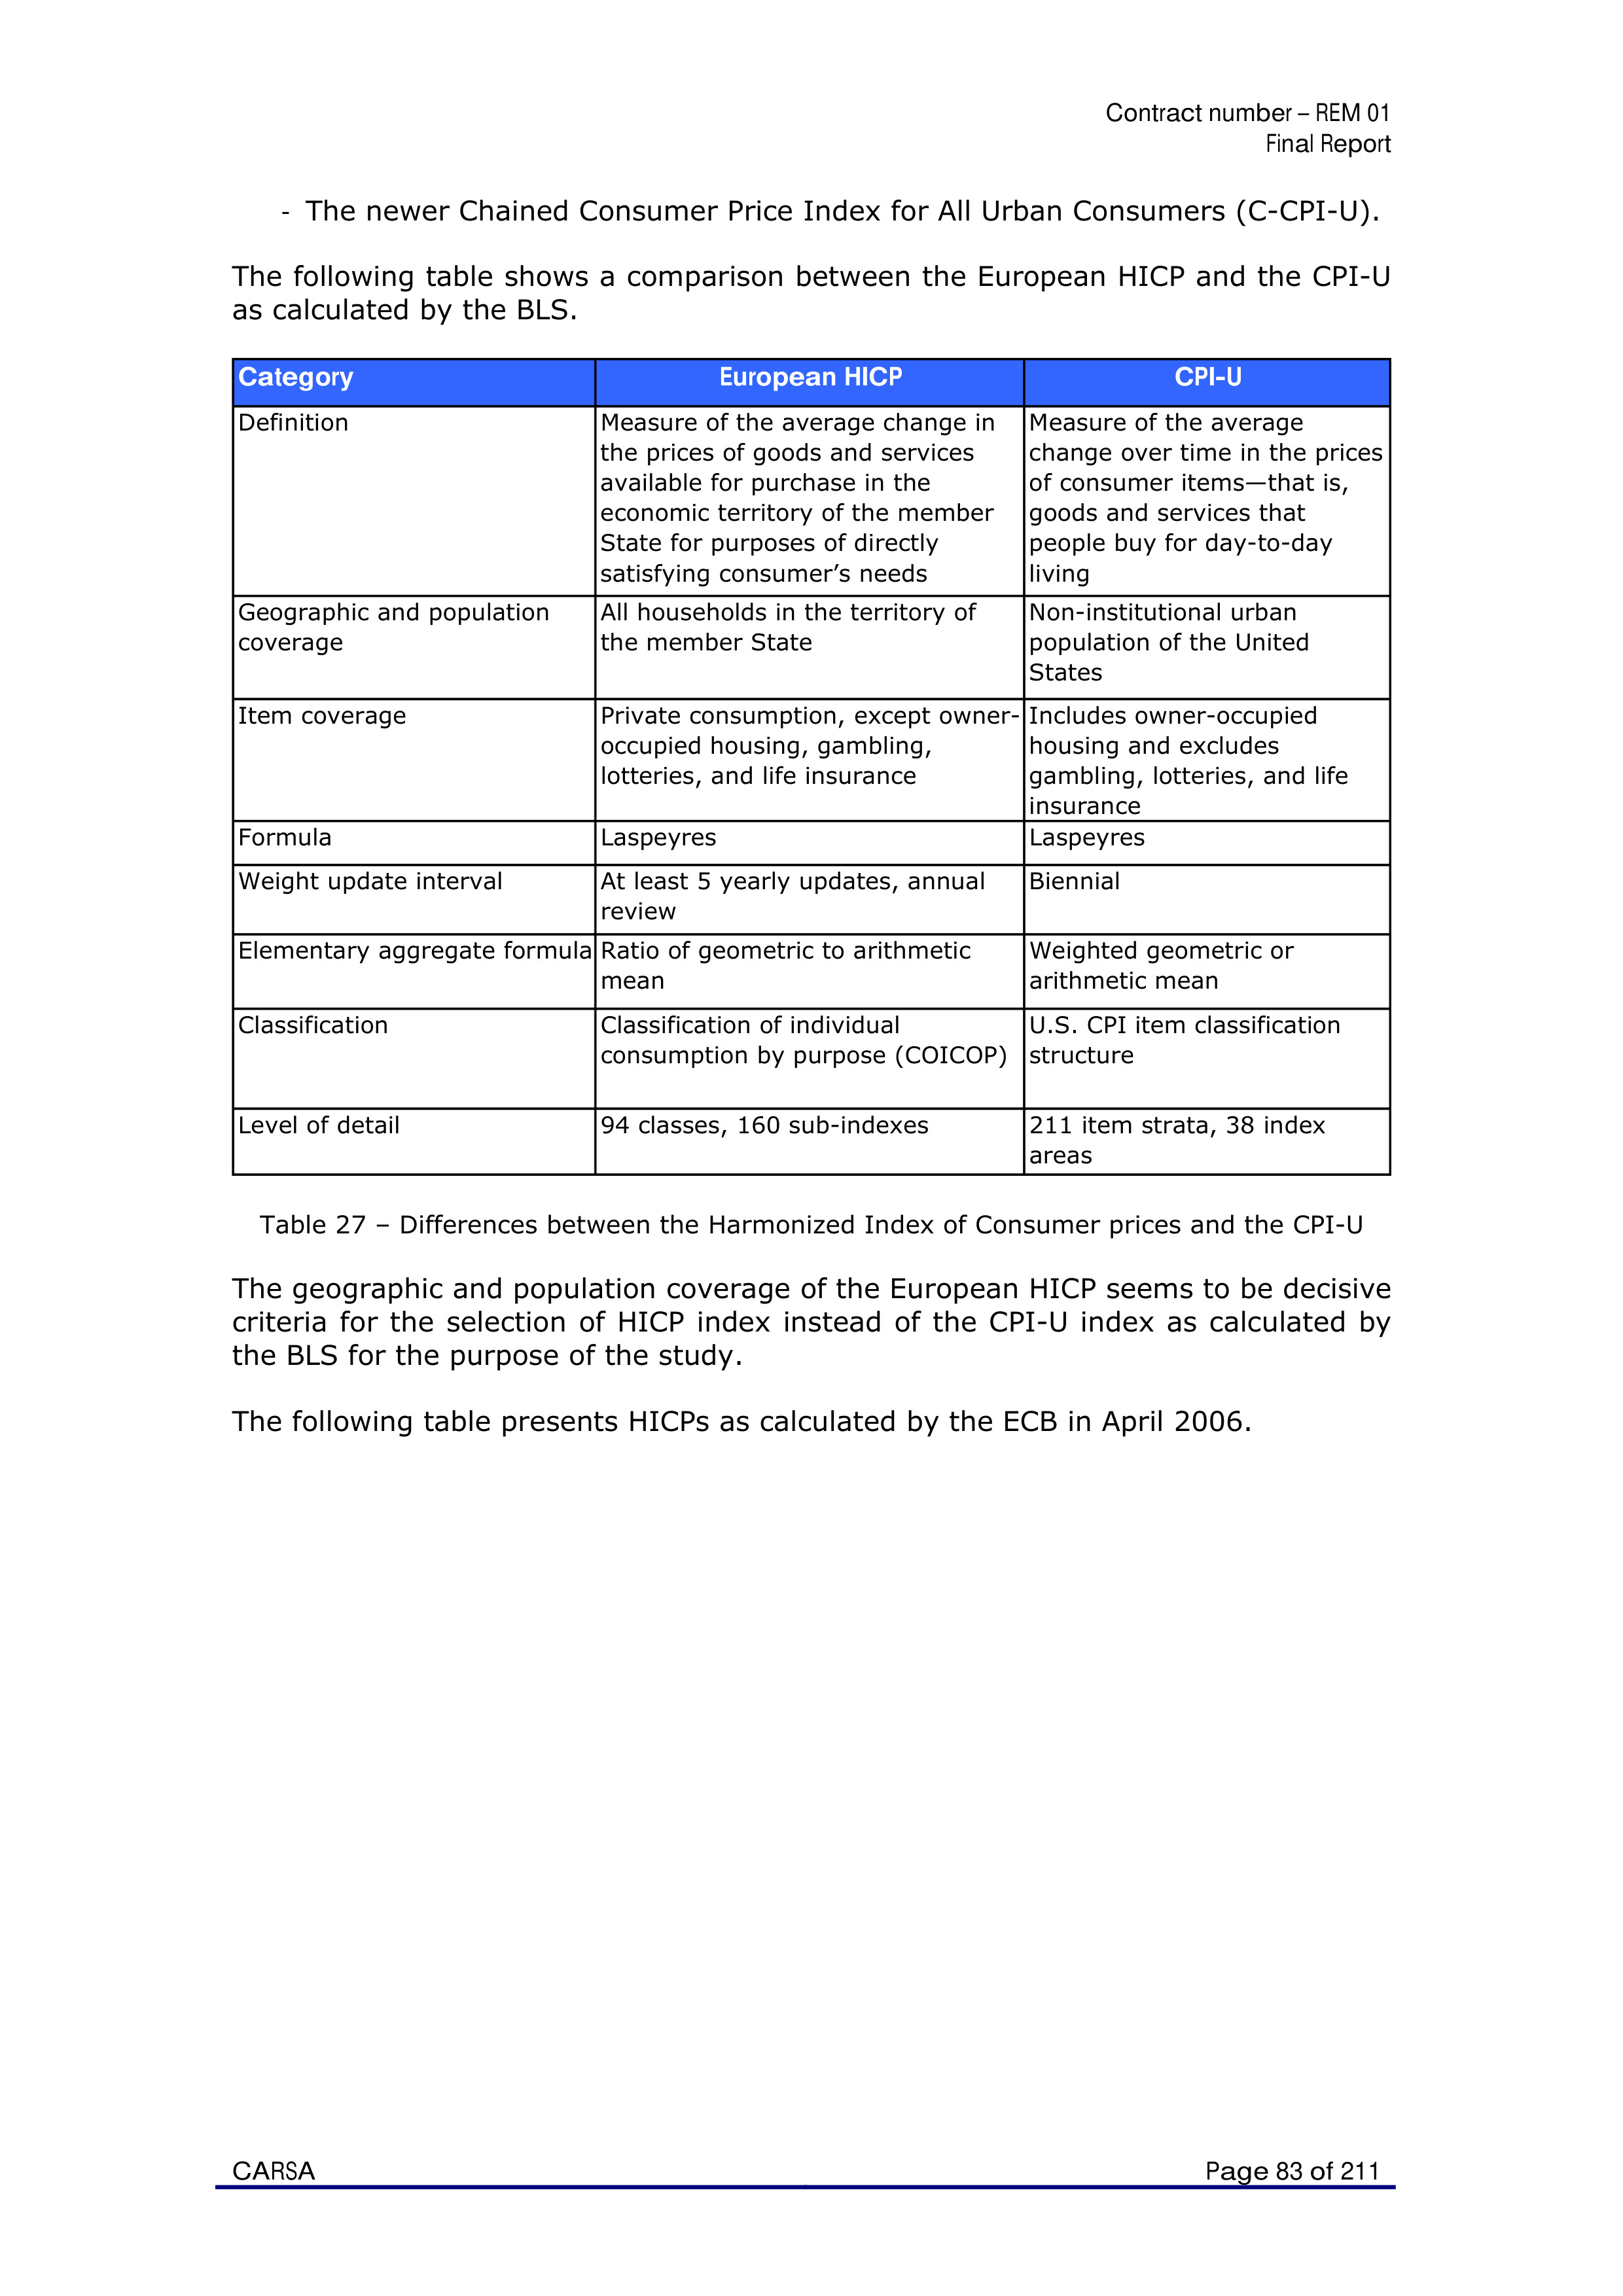table: (237, 358, 1384, 1167)
